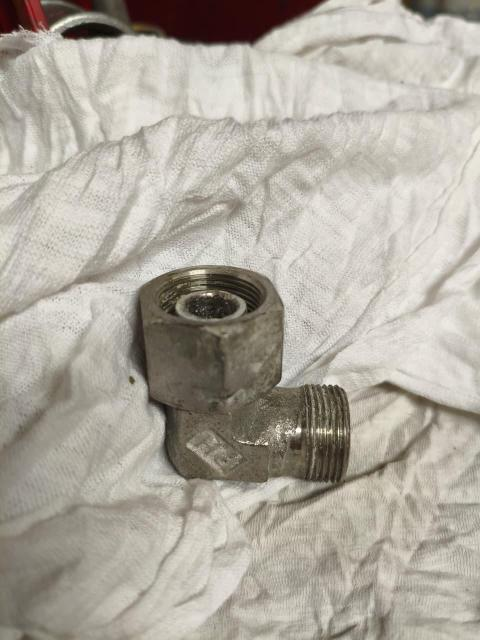Metal: (140, 272, 347, 478), (143, 270, 282, 405), (168, 402, 345, 477)
